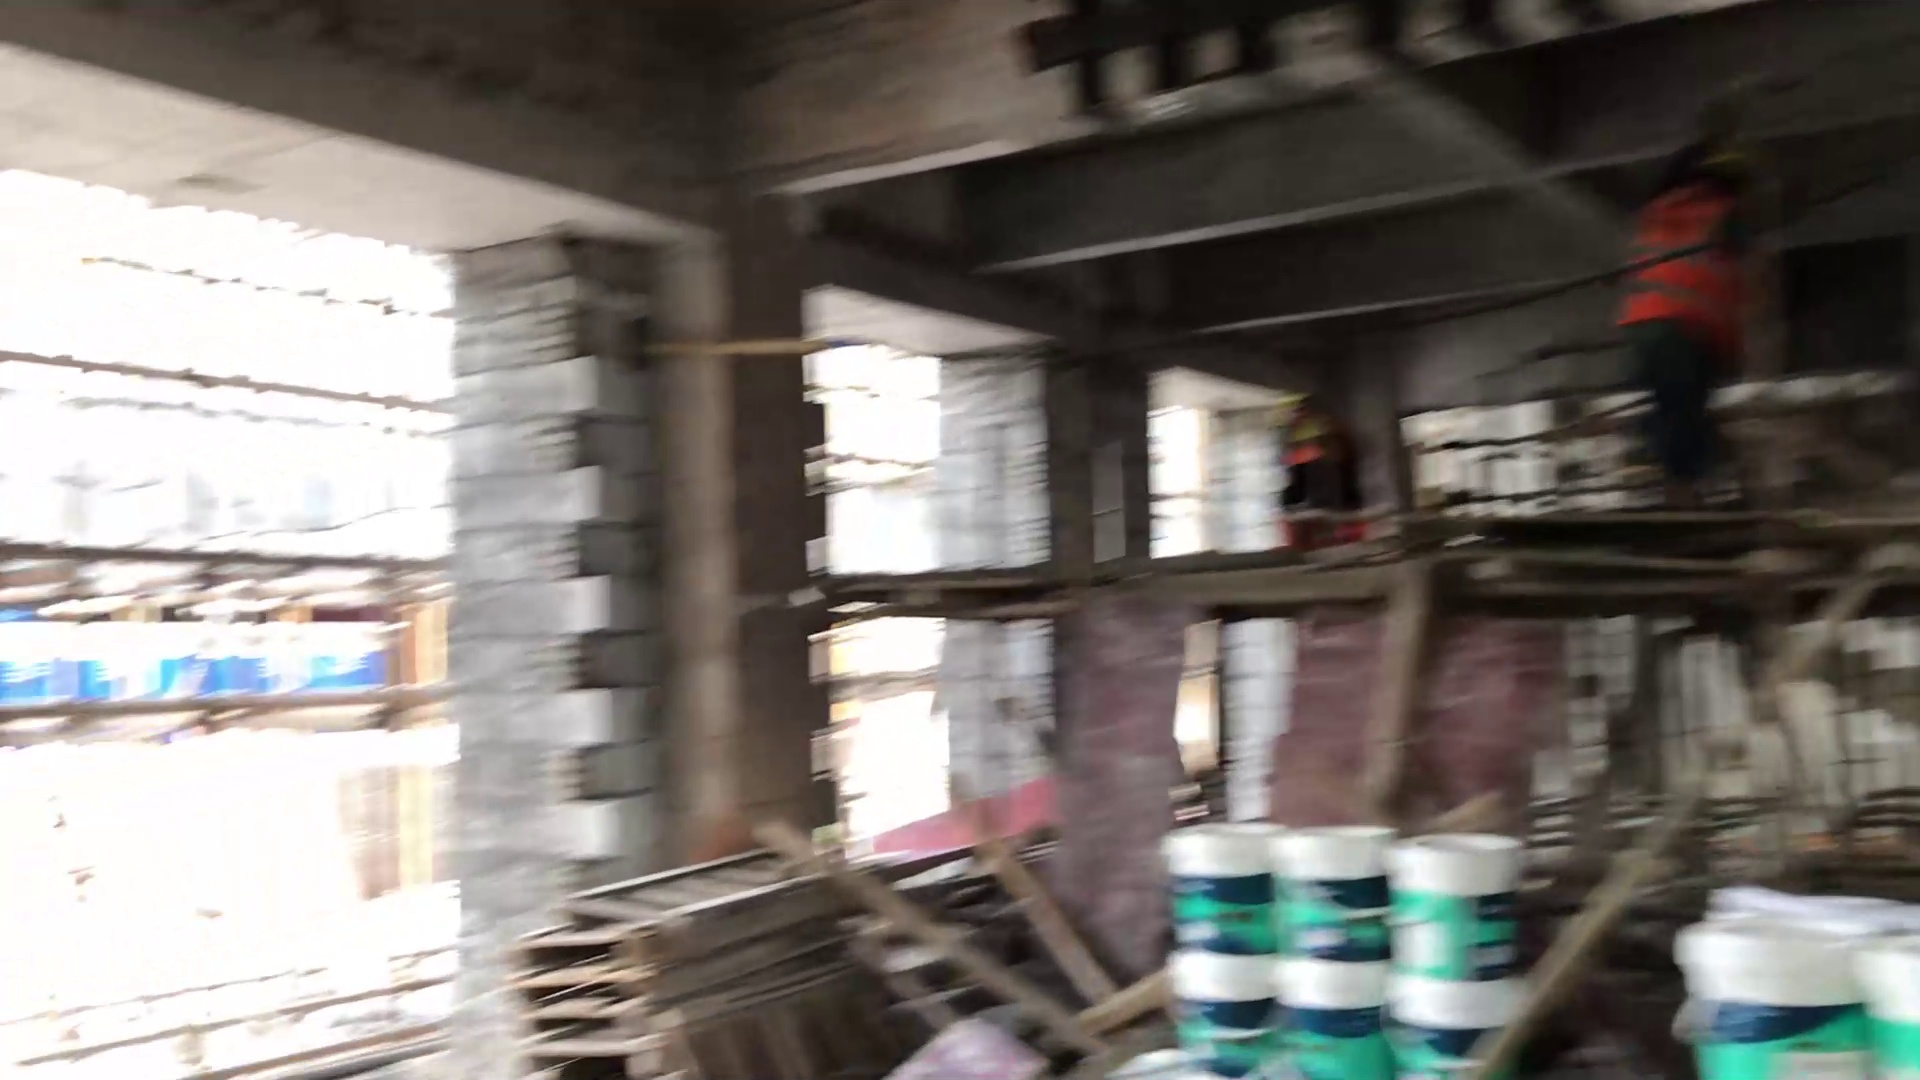person: (1603, 149, 1762, 508)
vest: (1619, 178, 1744, 342)
